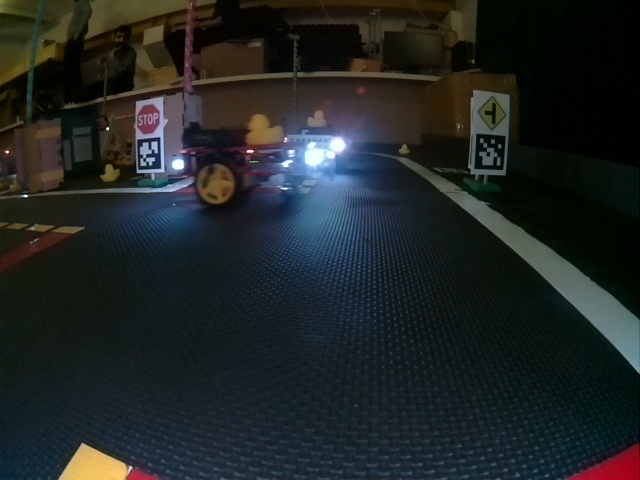Duckie: (247, 117, 281, 144), (99, 164, 120, 182), (307, 110, 327, 127), (397, 144, 411, 155)
Duckiebot: (291, 130, 347, 168)
Intersection sign: (476, 93, 507, 132)
QR code: (475, 136, 504, 172), (138, 139, 159, 168)
Stop sign: (136, 102, 162, 133)
